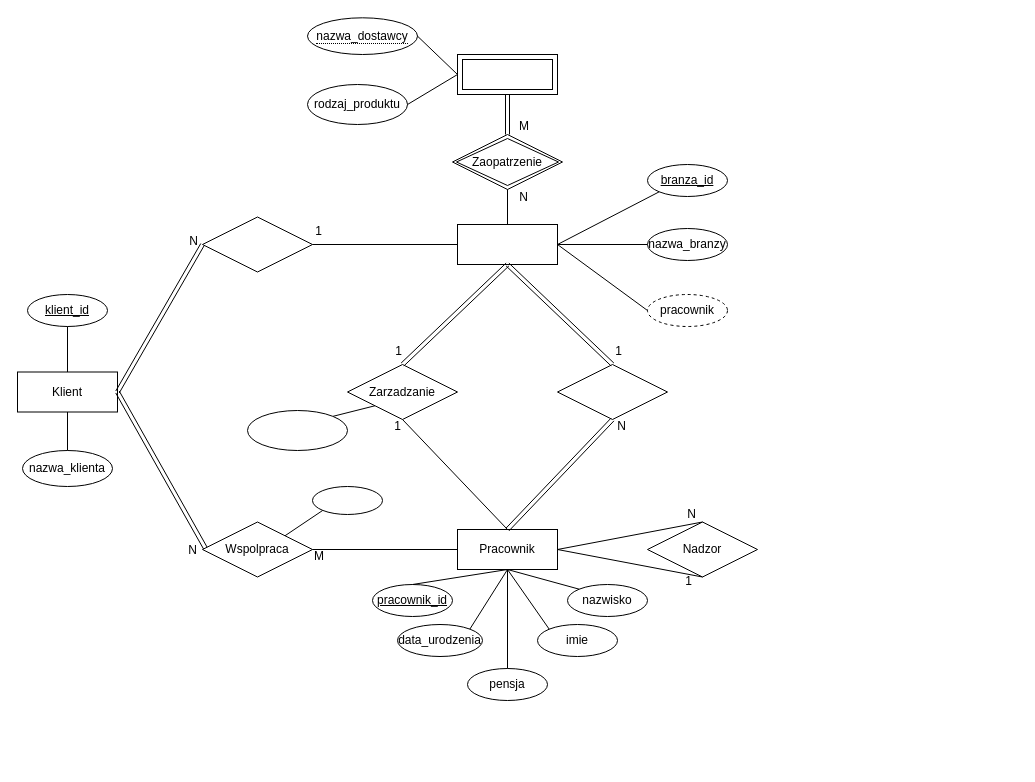
The diagram is 1035 pixels wide and 782 high, and some of its shapes have lost their labels. The shapes that lost their labels are listed below. From the top down, each one's centre as x and y in pixels, then its label:
the point at 507,74: Dostawca
the point at 257,244: Obsluga
the point at 507,244: Branza
the point at 612,392: Praca dla
the point at 297,430: data_rozpoczecia
the point at 347,500: sprzedaz
